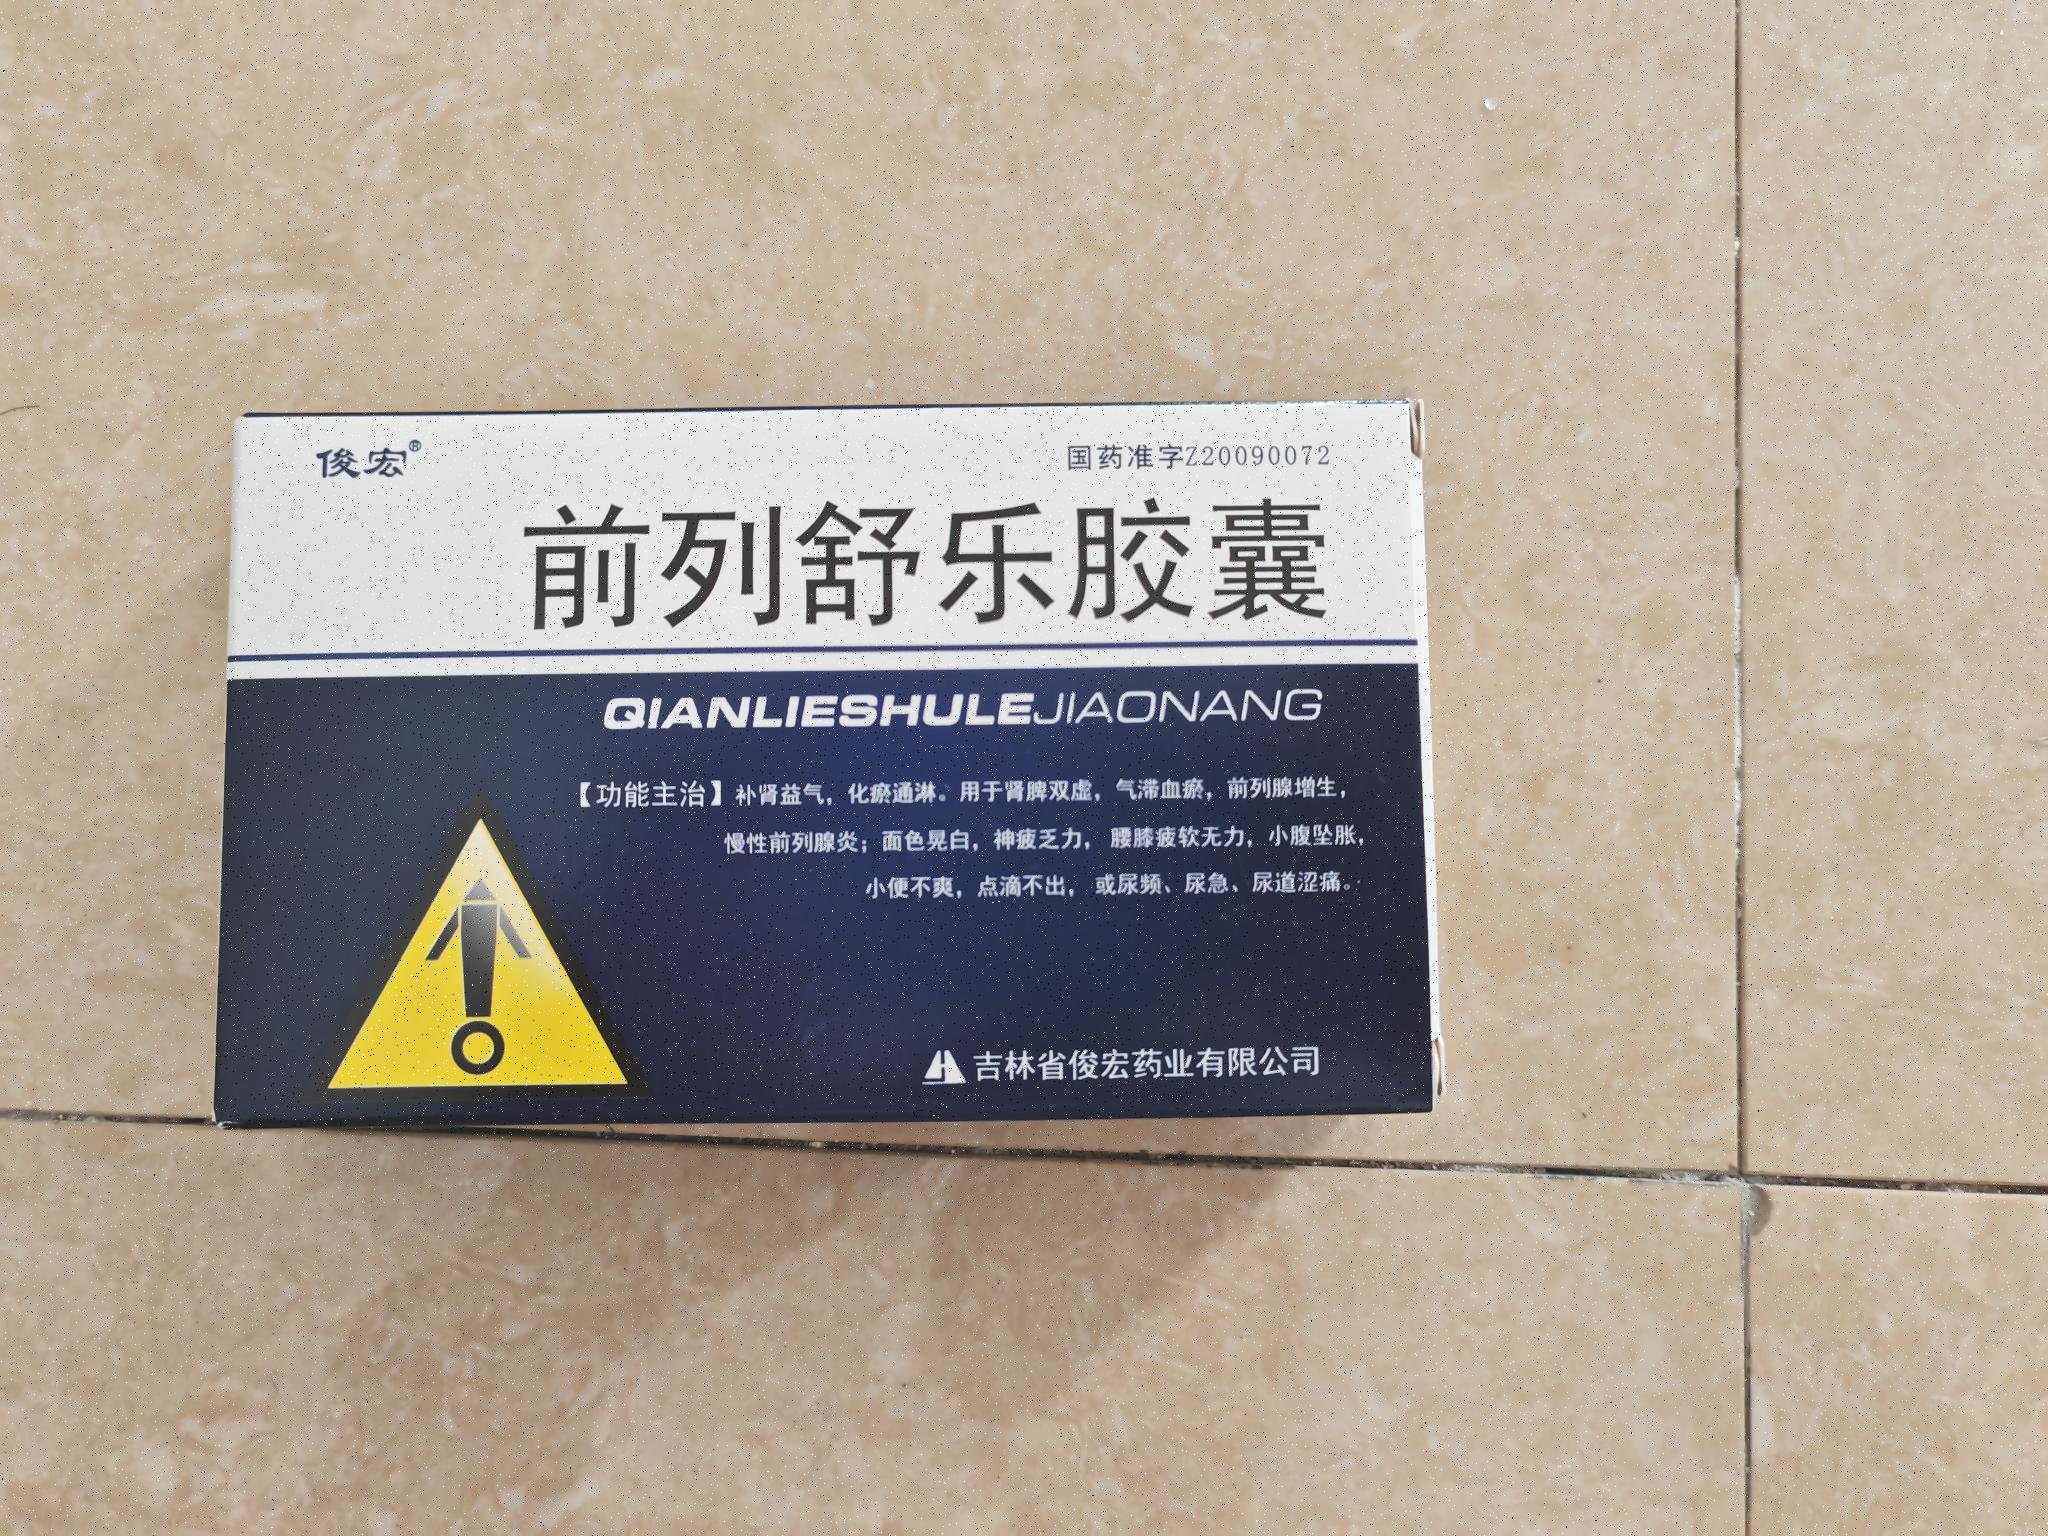Medicine2: (197, 374, 1463, 1146)
